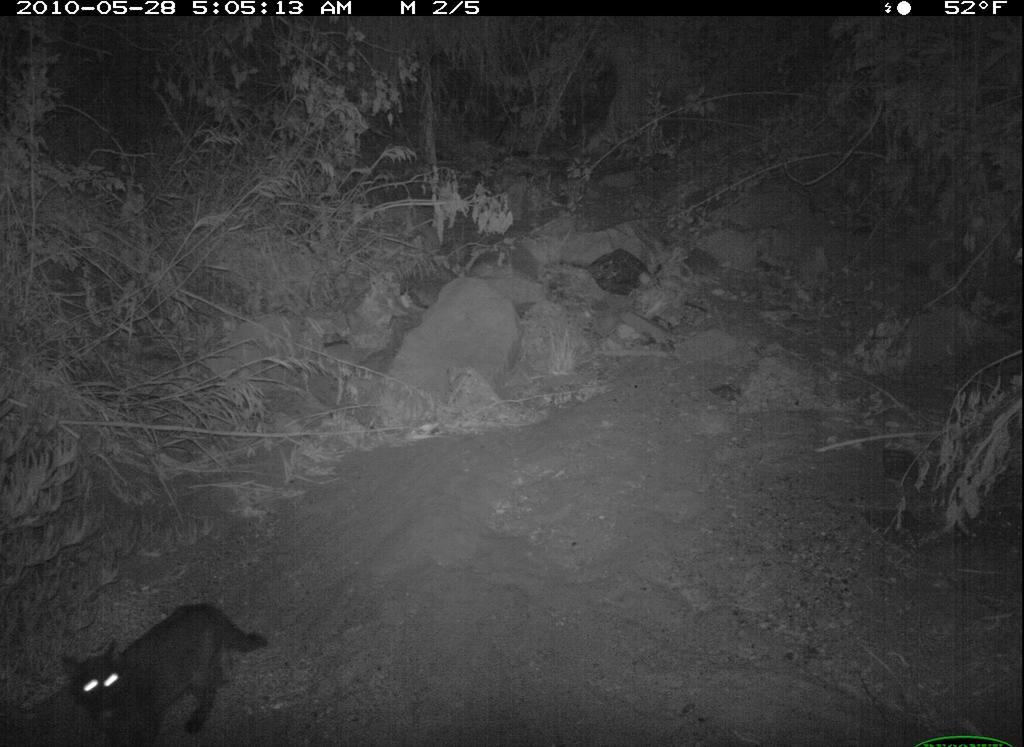cat: (48, 596, 278, 747)
